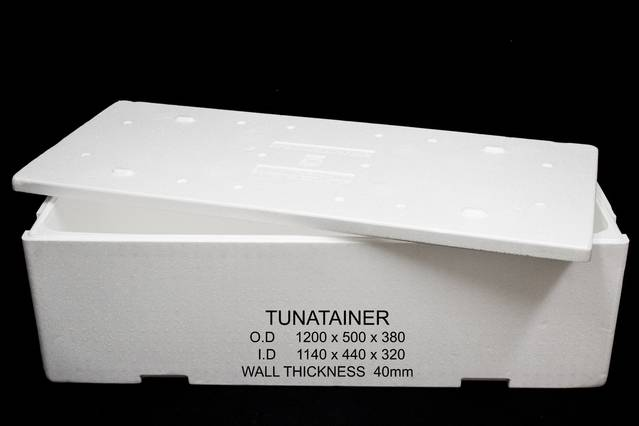泡沫箱: (13, 101, 628, 388)
